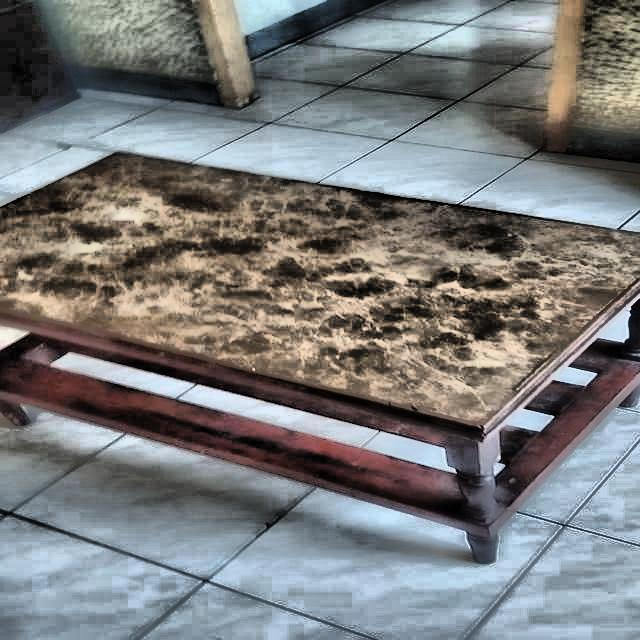mesa: (0, 148, 640, 562)
